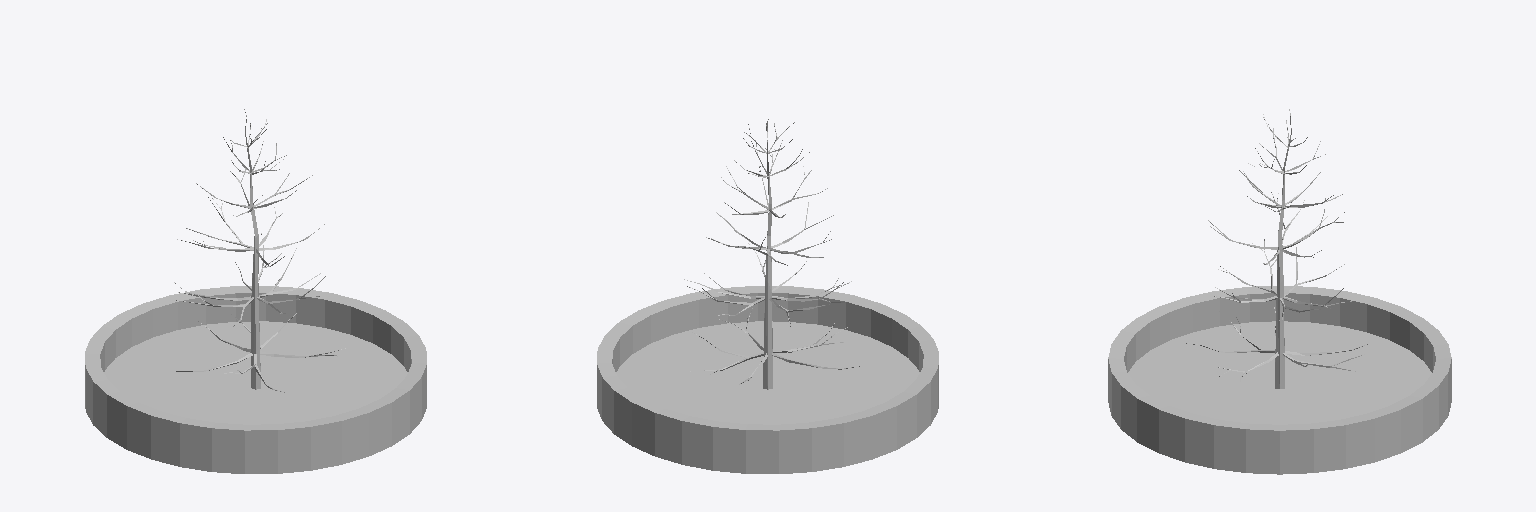
Rendered from Tree.obj.
3 views of the same model, side by side, from view 1: azimuth 30°, elevation 25°; view 2: azimuth 150°, elevation 25°; view 3: azimuth 270°, elevation 25° (orthographic).
Parts seen in each view (by area): view 1: Base.001_Cylinder.001, tree_tree.001; view 2: Base.001_Cylinder.001, tree_tree.001; view 3: Base.001_Cylinder.001, tree_tree.001.
Part boxes in pixels (x1,y1,x2,y2): Base.001_Cylinder.001: (85, 286, 426, 473); tree_tree.001: (174, 109, 345, 392); Base.001_Cylinder.001: (597, 286, 938, 473); tree_tree.001: (684, 119, 859, 389); Base.001_Cylinder.001: (1108, 286, 1451, 474); tree_tree.001: (1186, 109, 1367, 388).
Bounding box in the file's own units: 2.2 × 2.06 × 2.2.